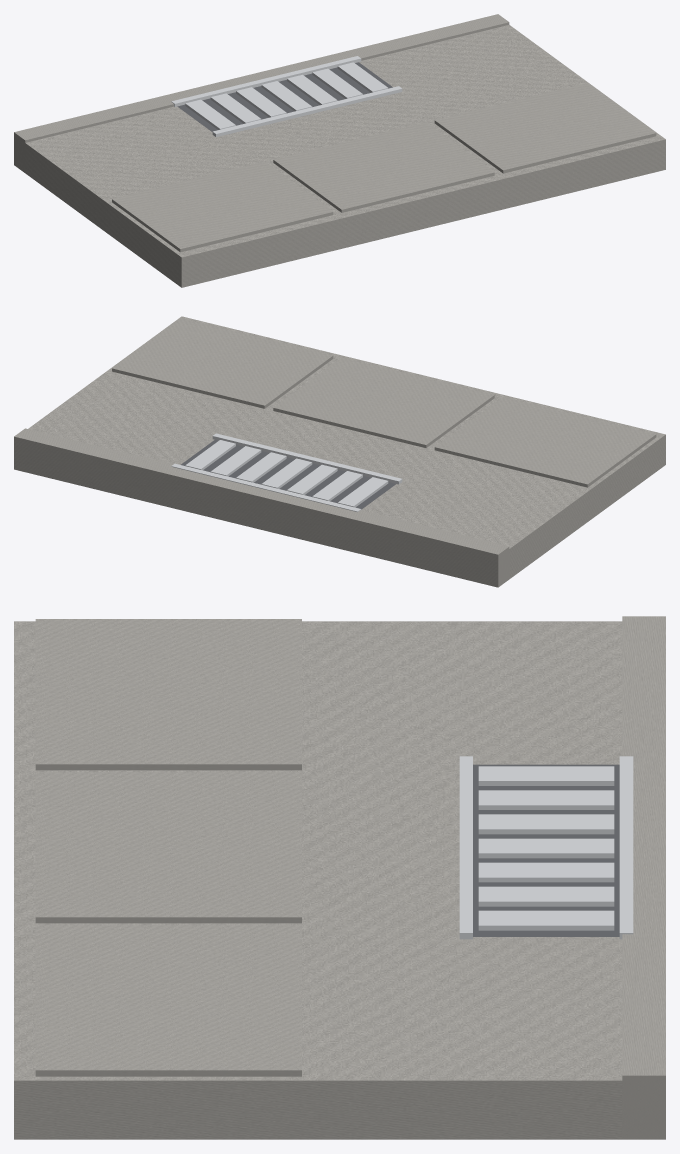
Rendered from indian-bazaar-street-and-temple-pavement-drain-module-906f6f87__36521.glb.
3 views of the same model, one above another, from view 1: azimuth 30°, elevation 25°; view 2: azimuth 150°, elevation 25°; view 3: azimuth 270°, elevation 25° (orthographic). The views are drawn at different scales.
Parts seen in each view (by area): view 1: pavement-drain-module-stone, pavement-drain-module-steel, pavement-drain-module-charcoal; view 2: pavement-drain-module-stone, pavement-drain-module-steel, pavement-drain-module-charcoal; view 3: pavement-drain-module-stone, pavement-drain-module-steel, pavement-drain-module-charcoal.
Boxes of the visible parts, <box> form: pavement-drain-module-stone: <box>14,14,665,287</box>; pavement-drain-module-steel: <box>171,56,402,137</box>; pavement-drain-module-charcoal: <box>177,62,392,131</box>; pavement-drain-module-stone: <box>14,316,665,587</box>; pavement-drain-module-steel: <box>171,433,402,512</box>; pavement-drain-module-charcoal: <box>181,439,395,509</box>; pavement-drain-module-stone: <box>14,616,665,1139</box>; pavement-drain-module-steel: <box>459,756,633,939</box>; pavement-drain-module-charcoal: <box>473,764,619,936</box>.
Bounding box in the file's own units: 4 × 0.2651 × 2.4.
3 materials, 1 textured.
